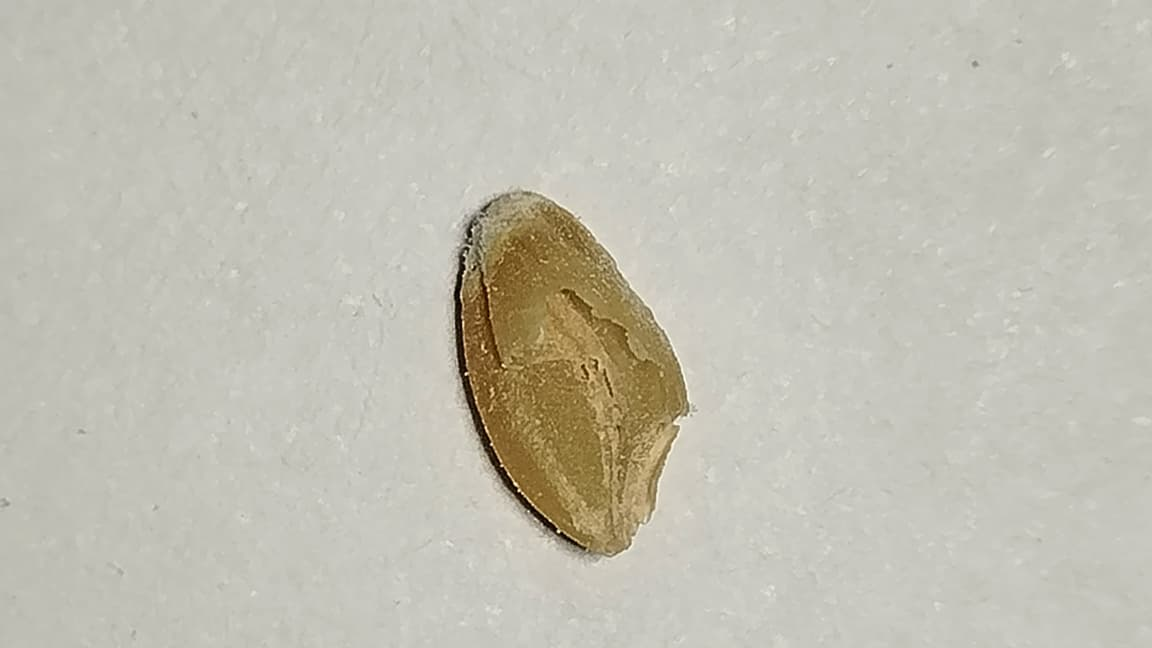damage: (453, 189, 692, 555)
insectdamage: (504, 289, 689, 555)
